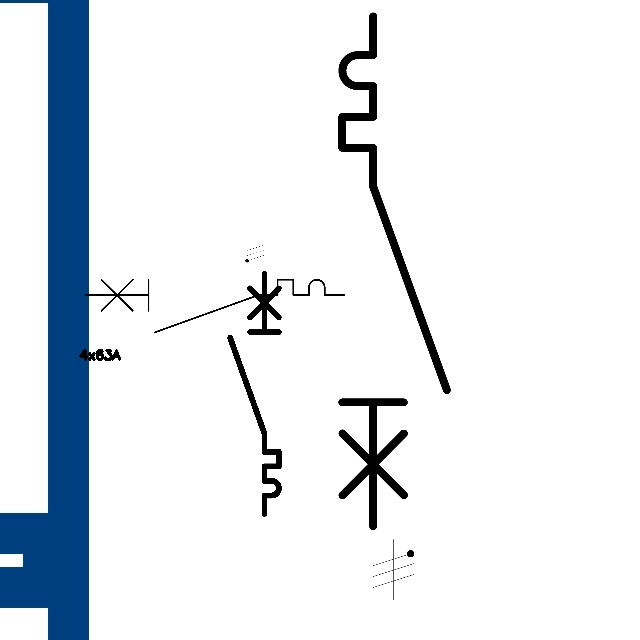interruptor_termomagnetico: (329, 3, 460, 539), (79, 273, 351, 339), (224, 267, 285, 519)
